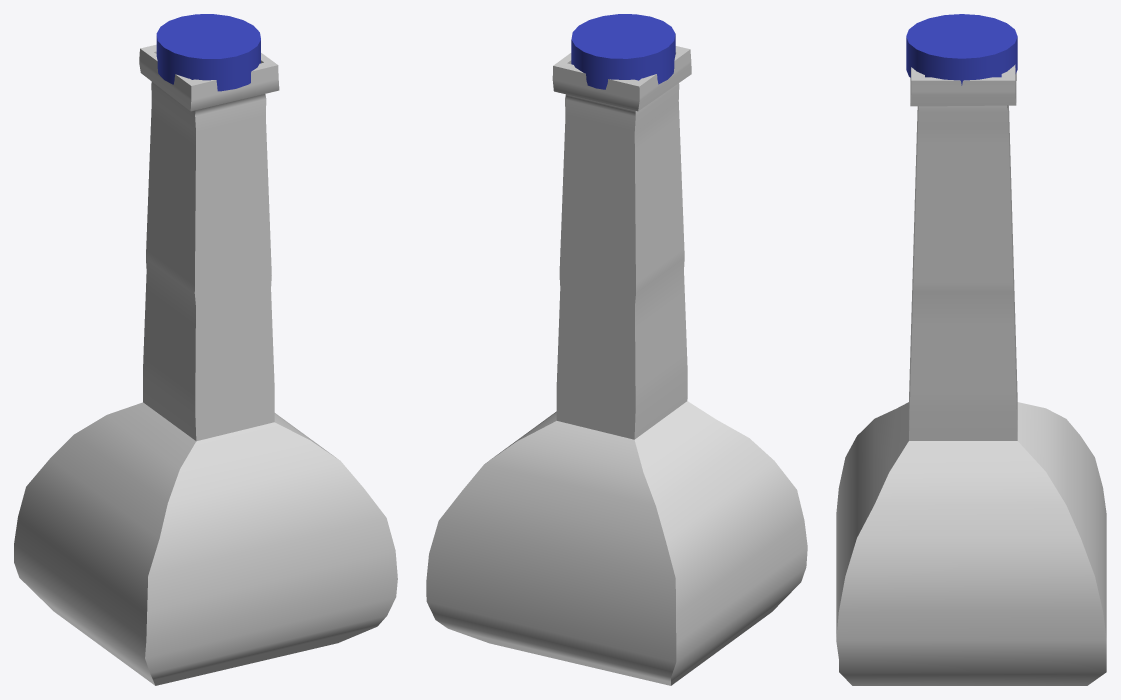
File: volumetricglass_AnastasiyaShcherbova.fbx
3 renders of one model, left to right at view 1: azimuth 30°, elevation 25°; view 2: azimuth 150°, elevation 25°; view 3: azimuth 270°, elevation 25°, orthographic. The views are drawn at different scales.
Parts seen in each view (by area): view 1: pCube1, pCylinder1; view 2: pCube1, pCylinder1; view 3: pCube1, pCylinder1.
Boxes of the visible parts, box(x1,y1,x2,y2) form: pCube1: box(14, 44, 397, 685); pCylinder1: box(156, 14, 260, 91); pCube1: box(426, 46, 807, 685); pCylinder1: box(571, 14, 675, 89); pCube1: box(836, 64, 1106, 685); pCylinder1: box(906, 14, 1017, 85).
Size of the model in its own units: 1.4 by 3.15 by 1.28.
